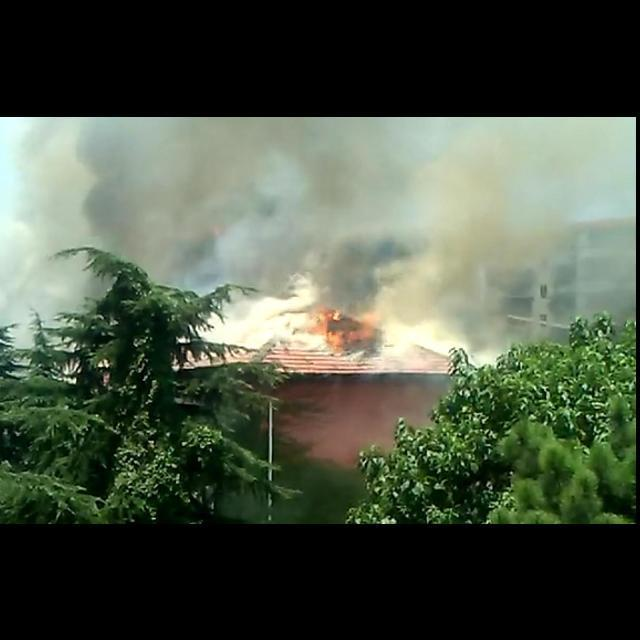Fire: (308, 306, 380, 352)
Smoke: (0, 117, 636, 367)
